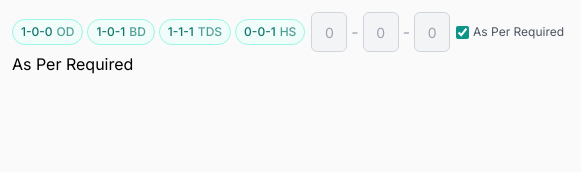
Test: FrequencyInput — quick presets › clears "As Per Required" when a preset is chosen
The image size is (581, 172).
Check: the checkbox is checked, box [456,26,469,38]
Check: the field named "Morning dose" is disabled, box [311,12,347,52]
Click the button "1-1-1 TDS". click: (195, 32)
box: [159,19,231,45]
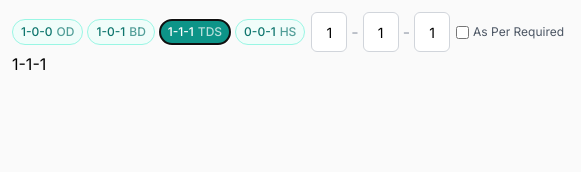
Check: the checkbox is not checked, box [456,26,469,38]
Check: the text with test id "frequency-value" reads "1-1-1", box [12,54,46,74]
Check: the field named "Morning dose" is enabled, box [311,12,347,52]
